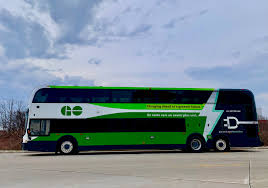bus: (20, 85, 264, 156)
